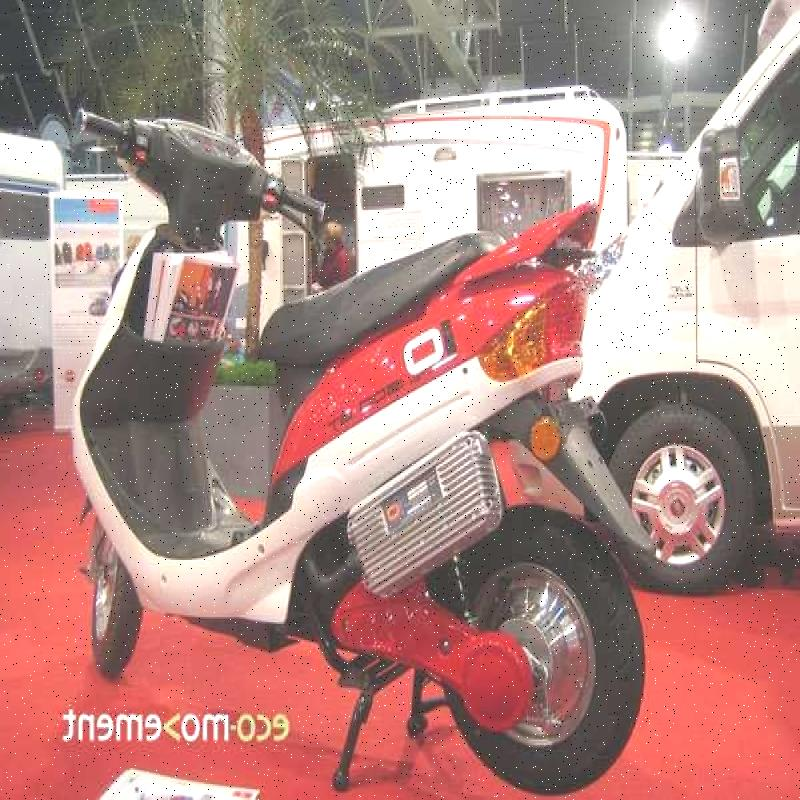bike: (46, 86, 643, 743)
